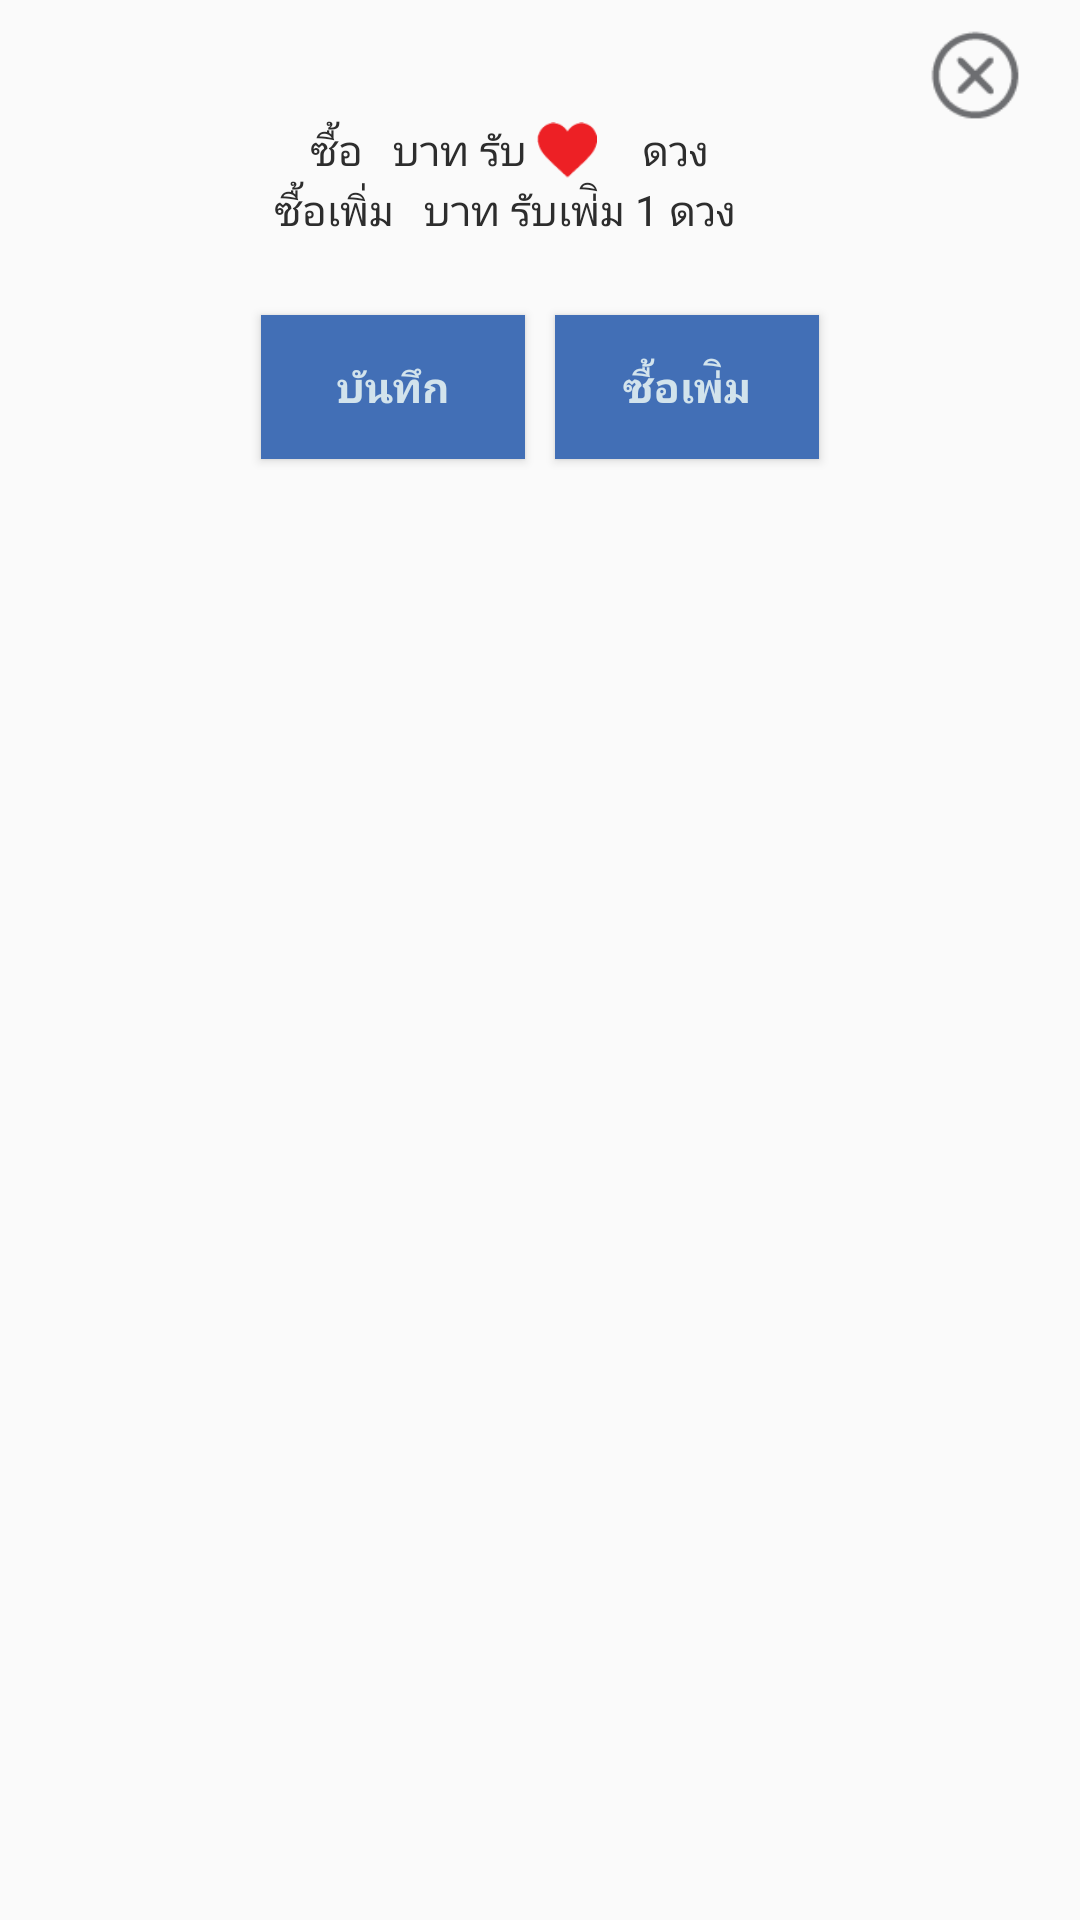

Where icons sit on this 1080w x 1920h app screen, as [x1, y1, x2, y2]:
heart: [537, 122, 597, 178]
